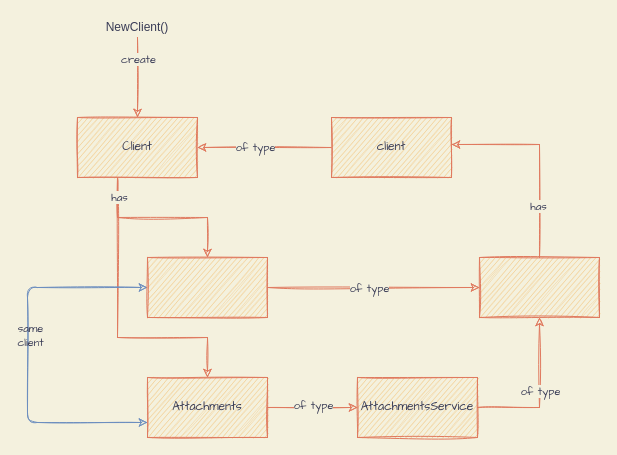
Image size: 617x455. Some labels were removed from this diagram. Here are the shapes that lost their labels. From the top down, the box of each, then its label:
(146, 256, 268, 318): common
(478, 256, 600, 318): service
